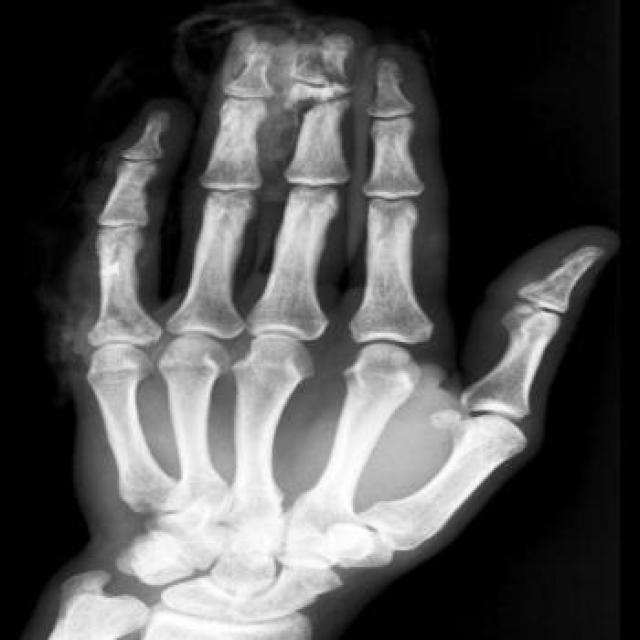fracture: (287, 40, 364, 104)
